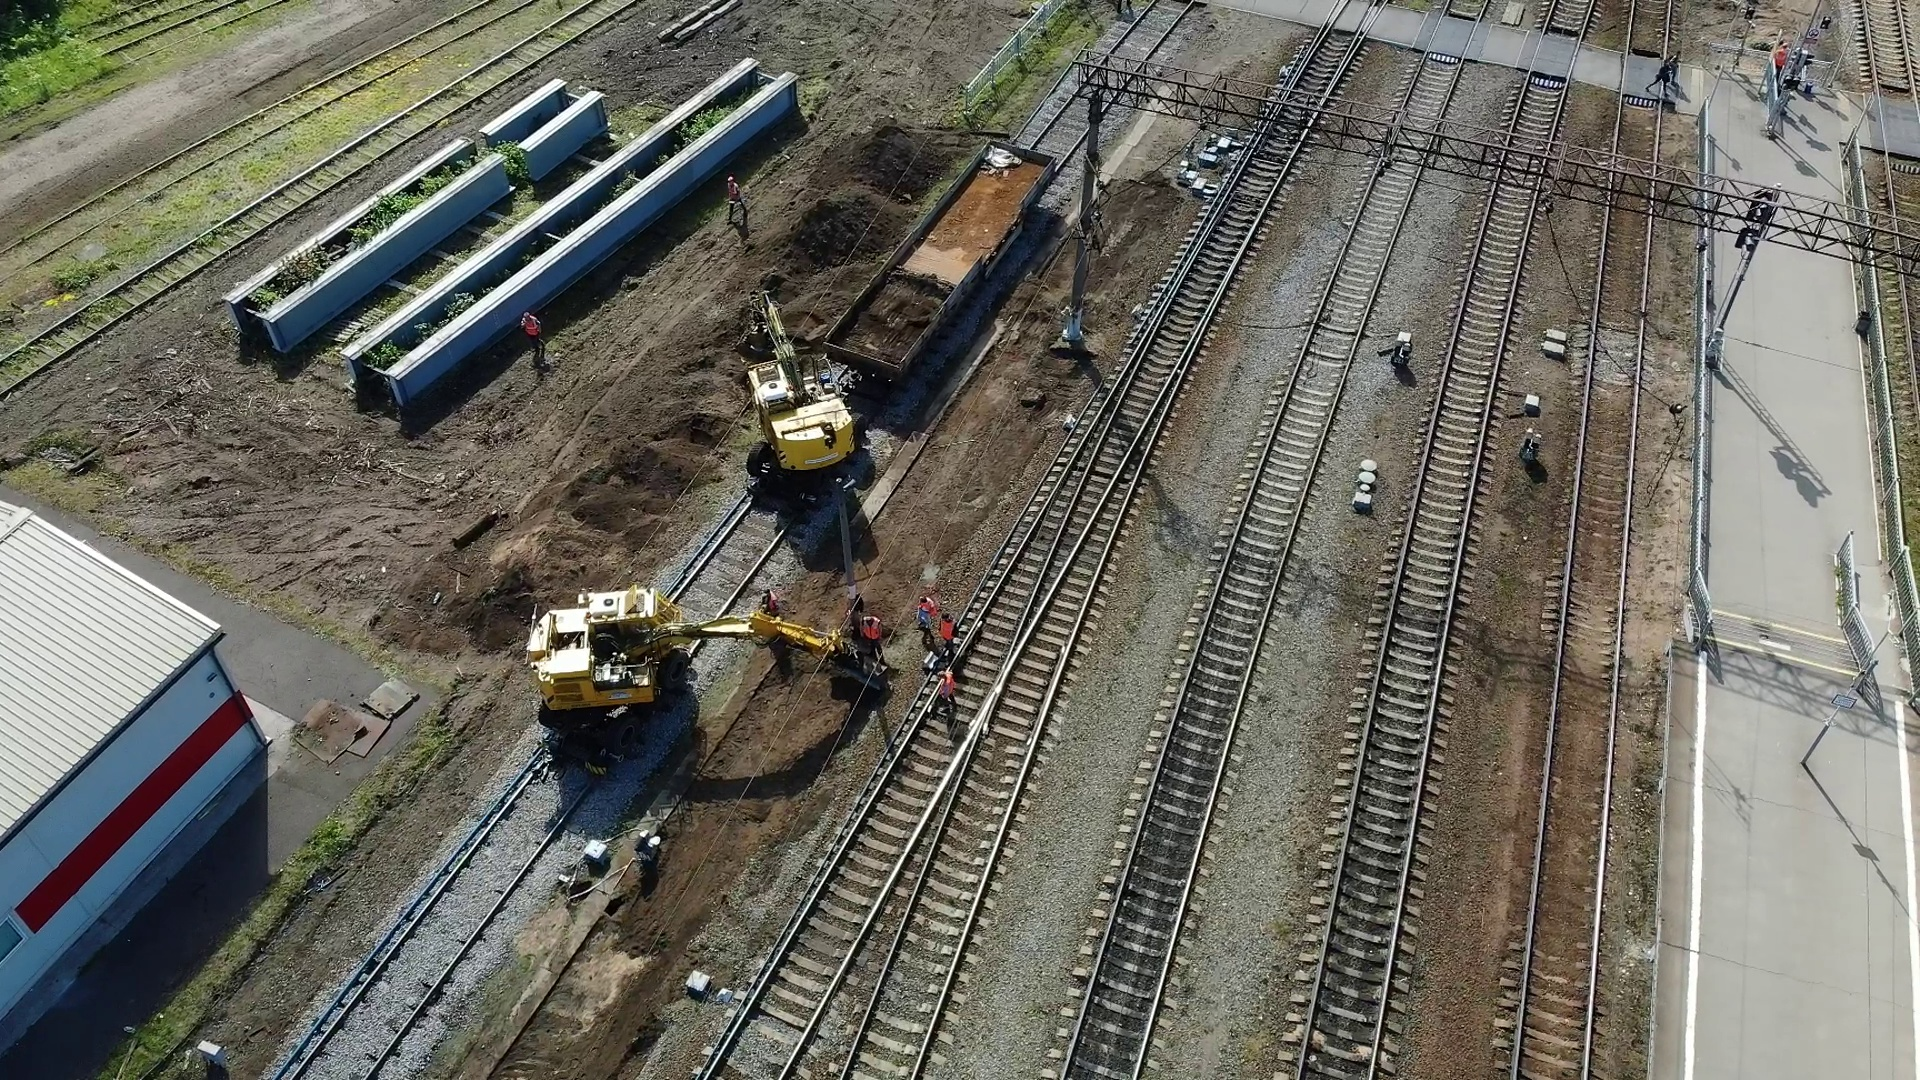kjtv: (525, 584, 727, 769), (747, 356, 877, 504)
